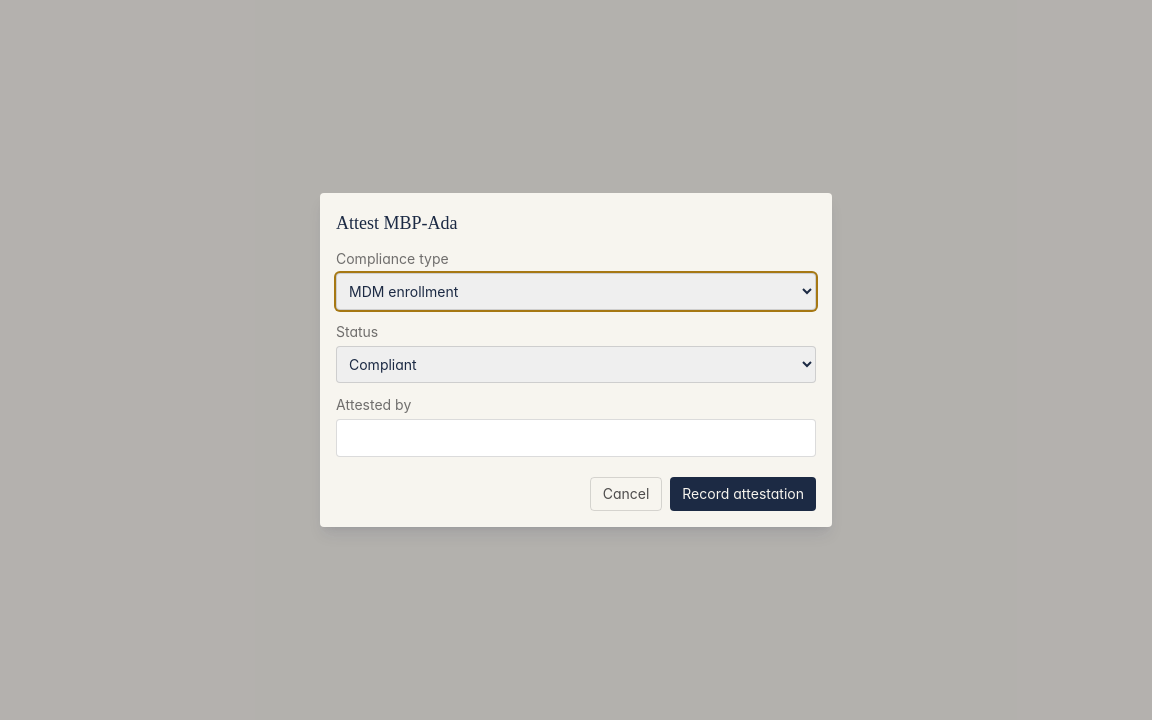
AttestDeviceModal (AC 5, AC 13) › AC 13 UX: selecting non-compliant reveals the signal-suppression note
Step 1. Select "Non-compliant" in the dropdown with test id "attest-status" → (576, 364), box x1=336 y1=346 x2=816 y2=383
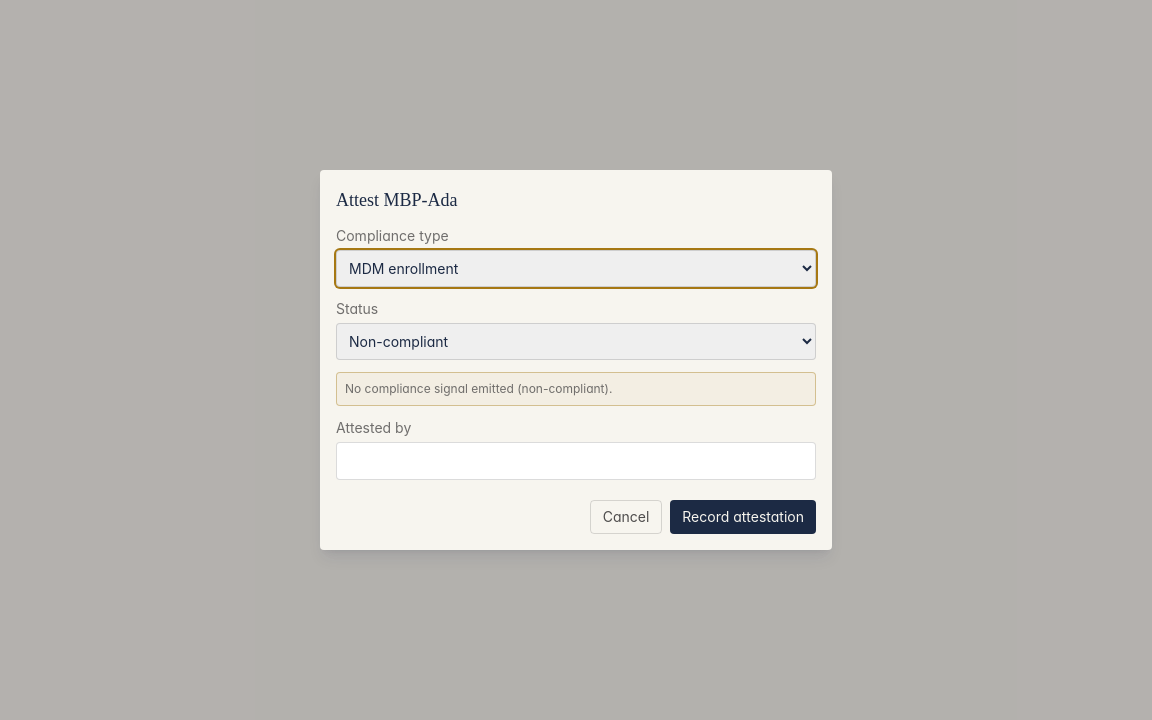
Check: the text "No compliance signal emitted (non-compliant)." is shown, box x1=336 y1=372 x2=816 y2=406
